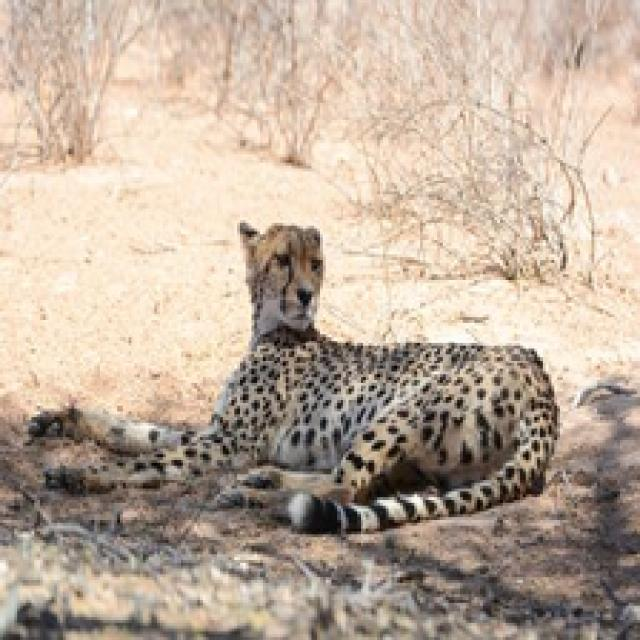cheetah: (19, 211, 572, 558)
